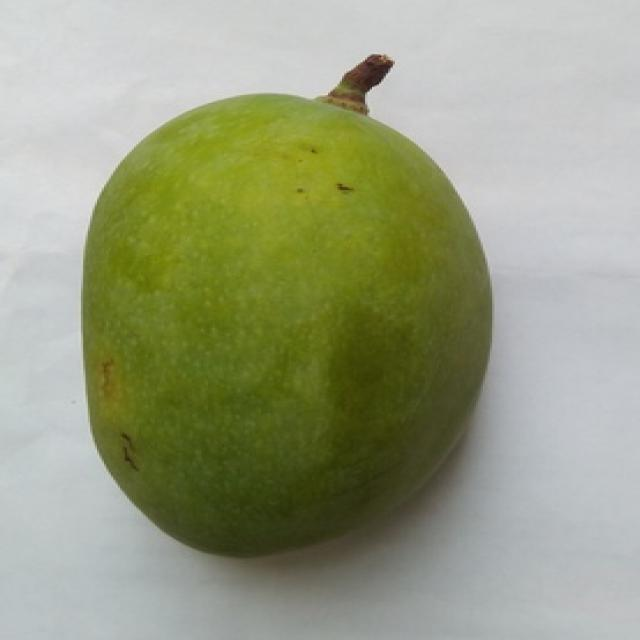Mango: (83, 55, 490, 558)
